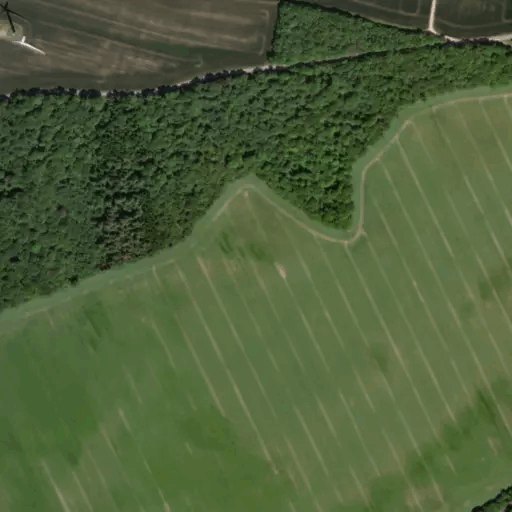wt: (1, 1, 57, 60)
